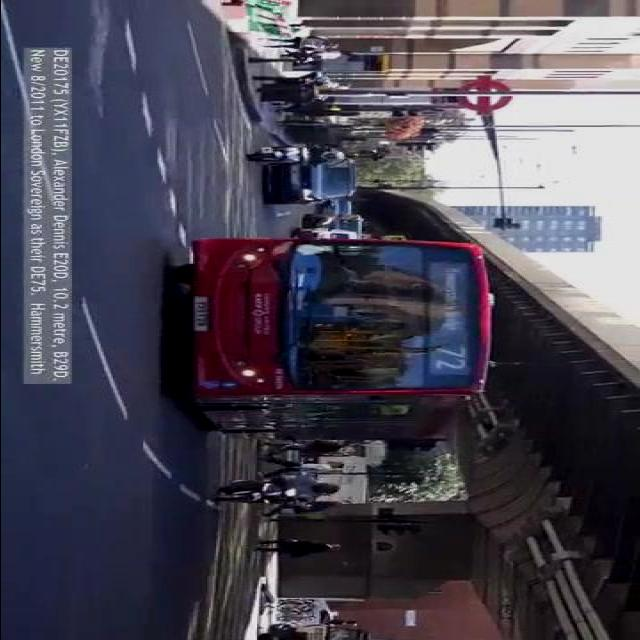bus: (184, 224, 486, 446)
